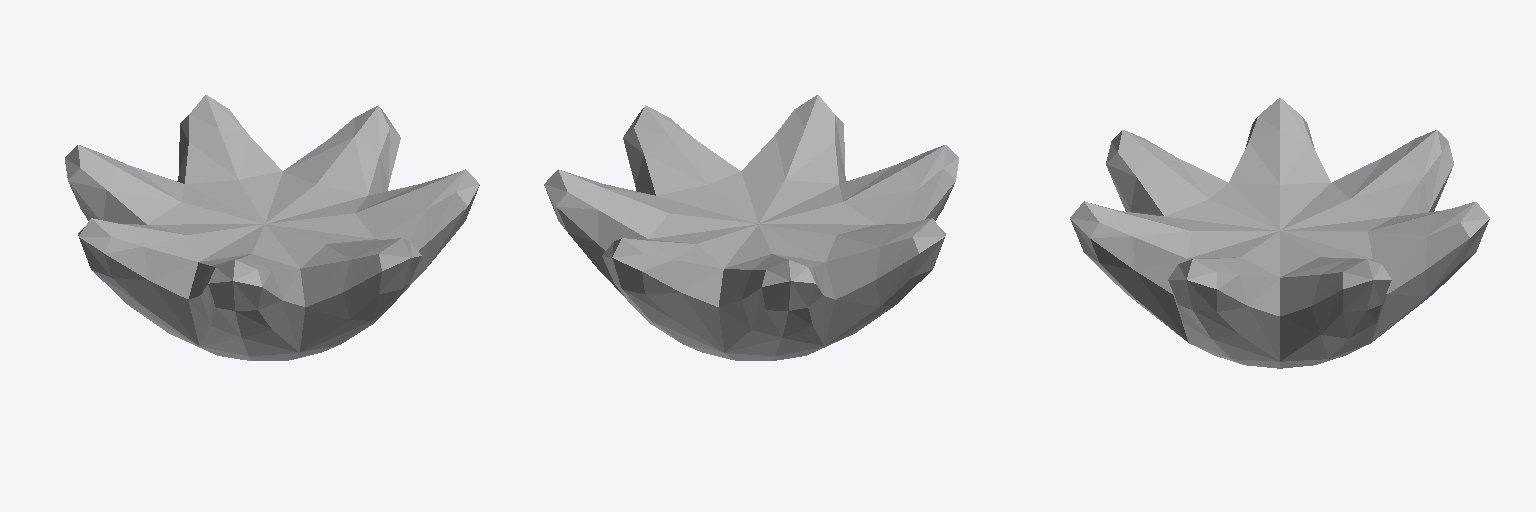
The model's file is evolved-duck.obj.
3 renders of one model, left to right at view 1: azimuth 30°, elevation 25°; view 2: azimuth 150°, elevation 25°; view 3: azimuth 270°, elevation 25°, orthographic.
Visible parts, largest first — view 1: cylinder1; view 2: cylinder1; view 3: cylinder1.
Boxes of the visible parts, x1=… form: cylinder1: x1=65, y1=95, x2=479, y2=360; cylinder1: x1=544, y1=95, x2=958, y2=360; cylinder1: x1=1070, y1=98, x2=1489, y2=368.
Bounding box in the file's own units: 0.1094 × 0.046 × 0.1122.